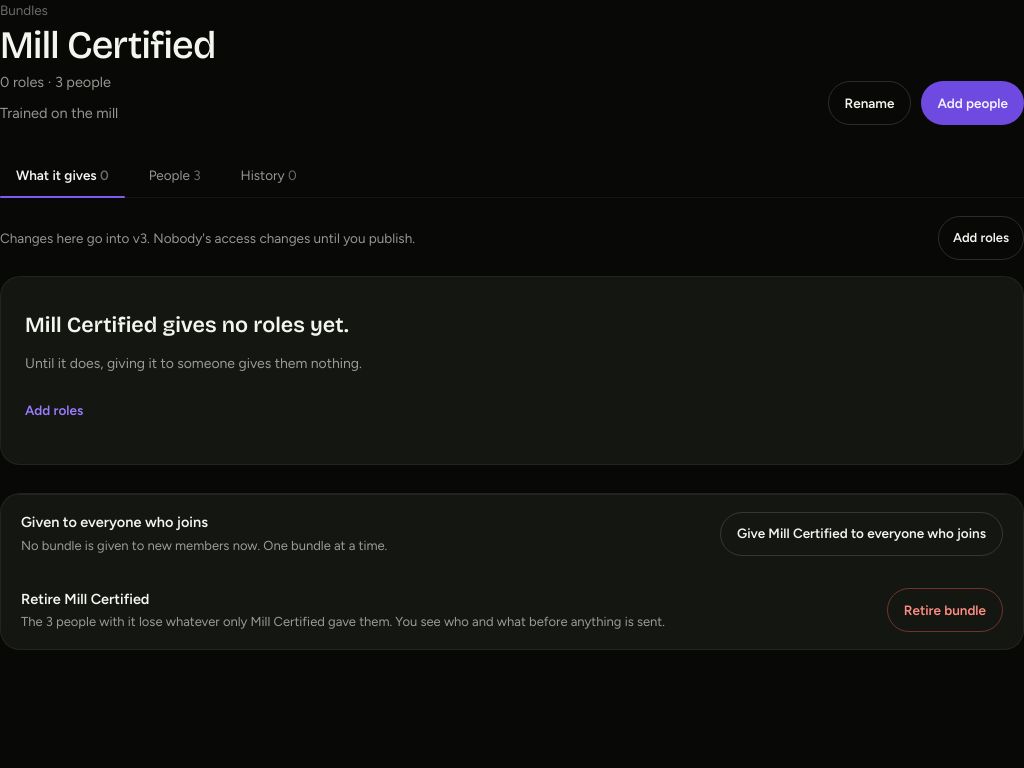
after a bundle is retired › keeps the report on screen and retires the destructive action
Click the button "Retire bundle".
click(945, 610)  # box [887,588,1003,632]
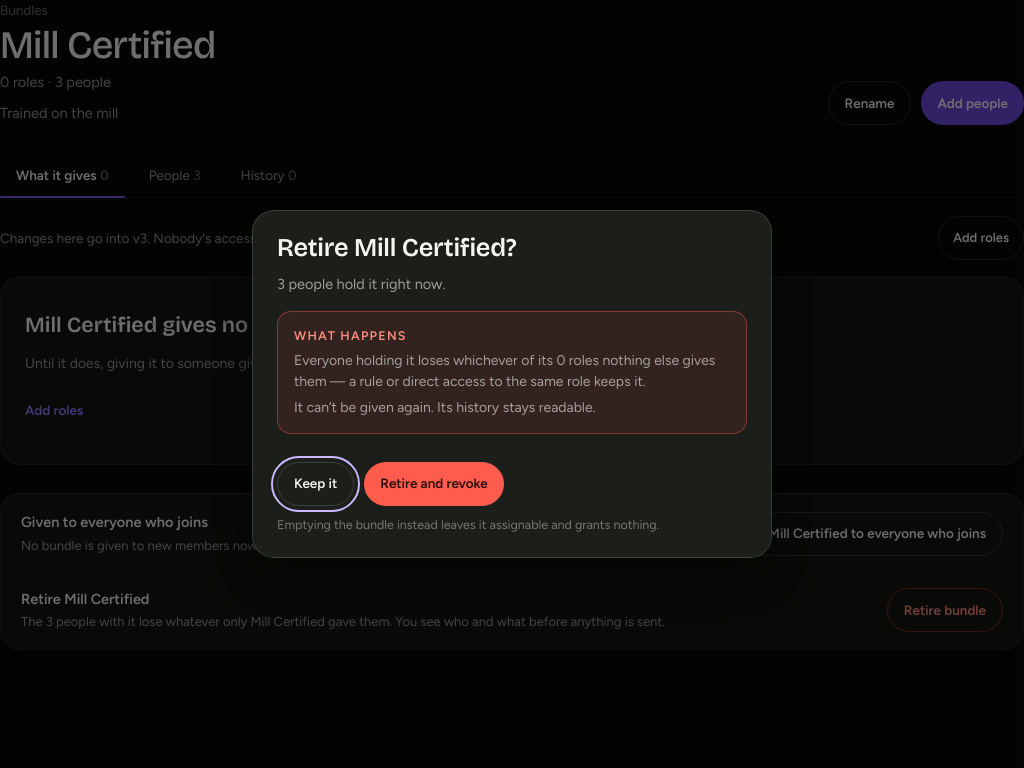
Click the button "Retire and revoke".
click(434, 484)  # box [364,462,504,506]
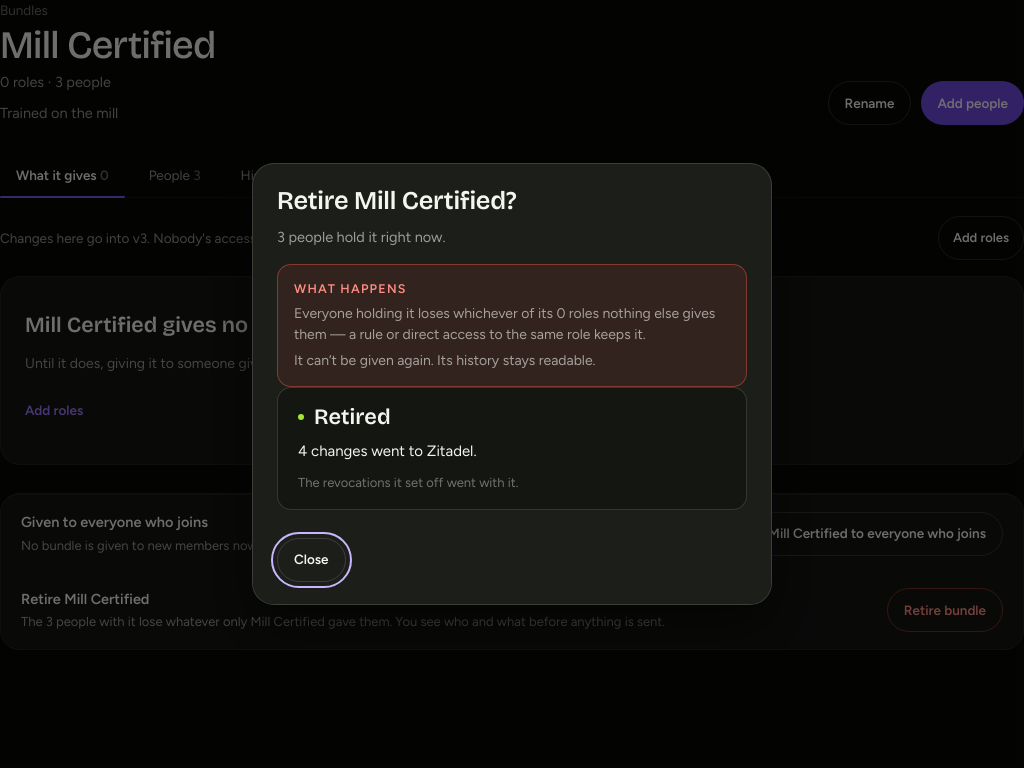
Expected: the text "Retired" is shown, [314,404,391,430]
Expected: the button "Retire and revoke" is gone
Expected: the button "Keep it" is gone
